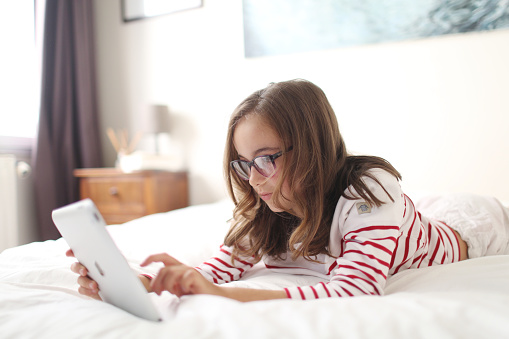deitado: (106, 74, 481, 332)
